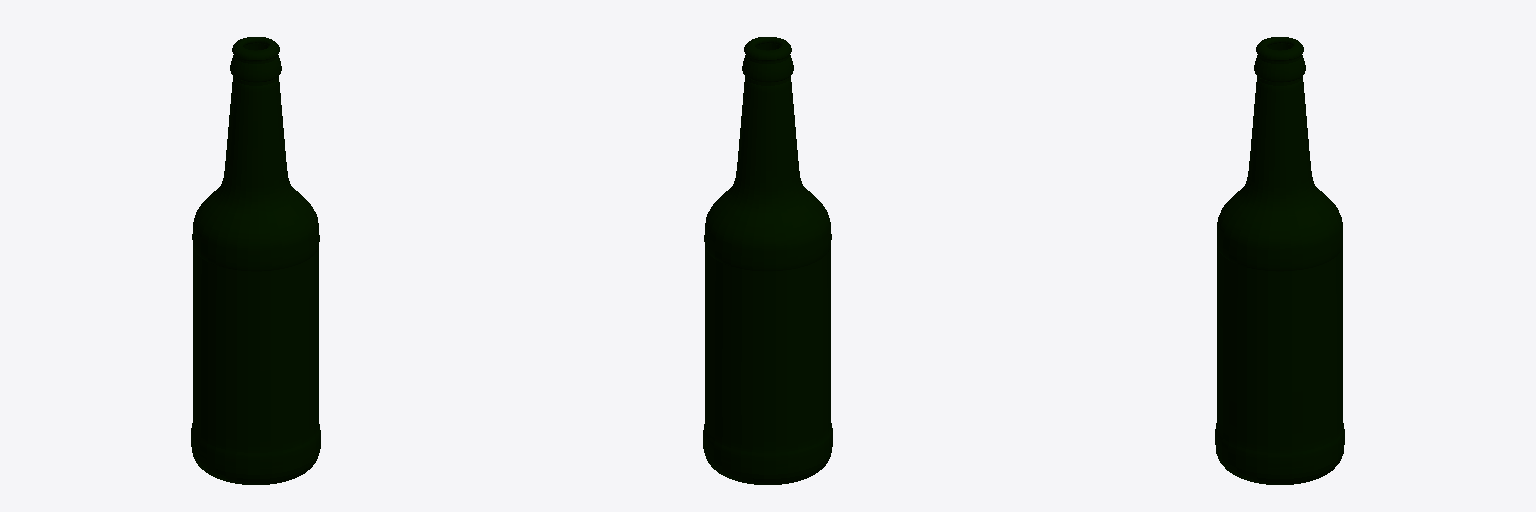
The model's file is beer-bottle.obj.
3 views of the same model, side by side, from view 1: azimuth 30°, elevation 25°; view 2: azimuth 150°, elevation 25°; view 3: azimuth 270°, elevation 25° (orthographic).
Parts seen in each view (by area): view 1: Bottle_Mesh; view 2: Bottle_Mesh; view 3: Bottle_Mesh.
Part boxes in pixels (x1,y1,x2,y2): Bottle_Mesh: (191, 37, 320, 484); Bottle_Mesh: (703, 37, 832, 484); Bottle_Mesh: (1215, 37, 1344, 484).
Bounding box in the file's own units: 2.59 × 9.34 × 2.58.